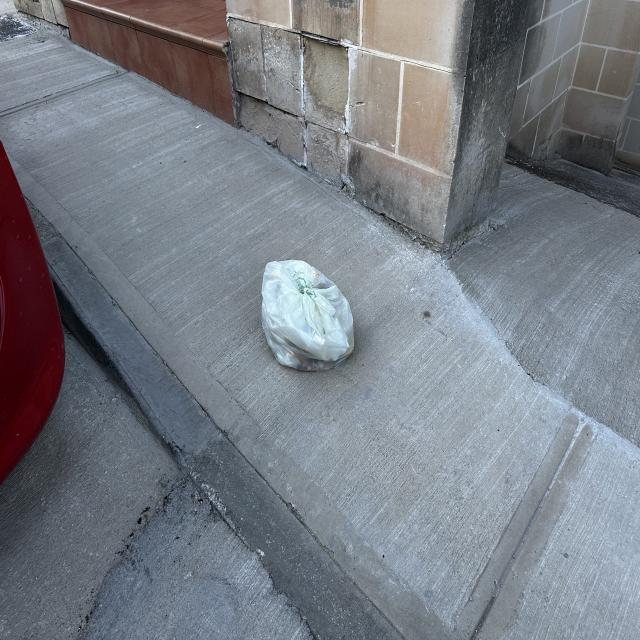Organic Waste -White Bags-: (261, 260, 354, 372)
